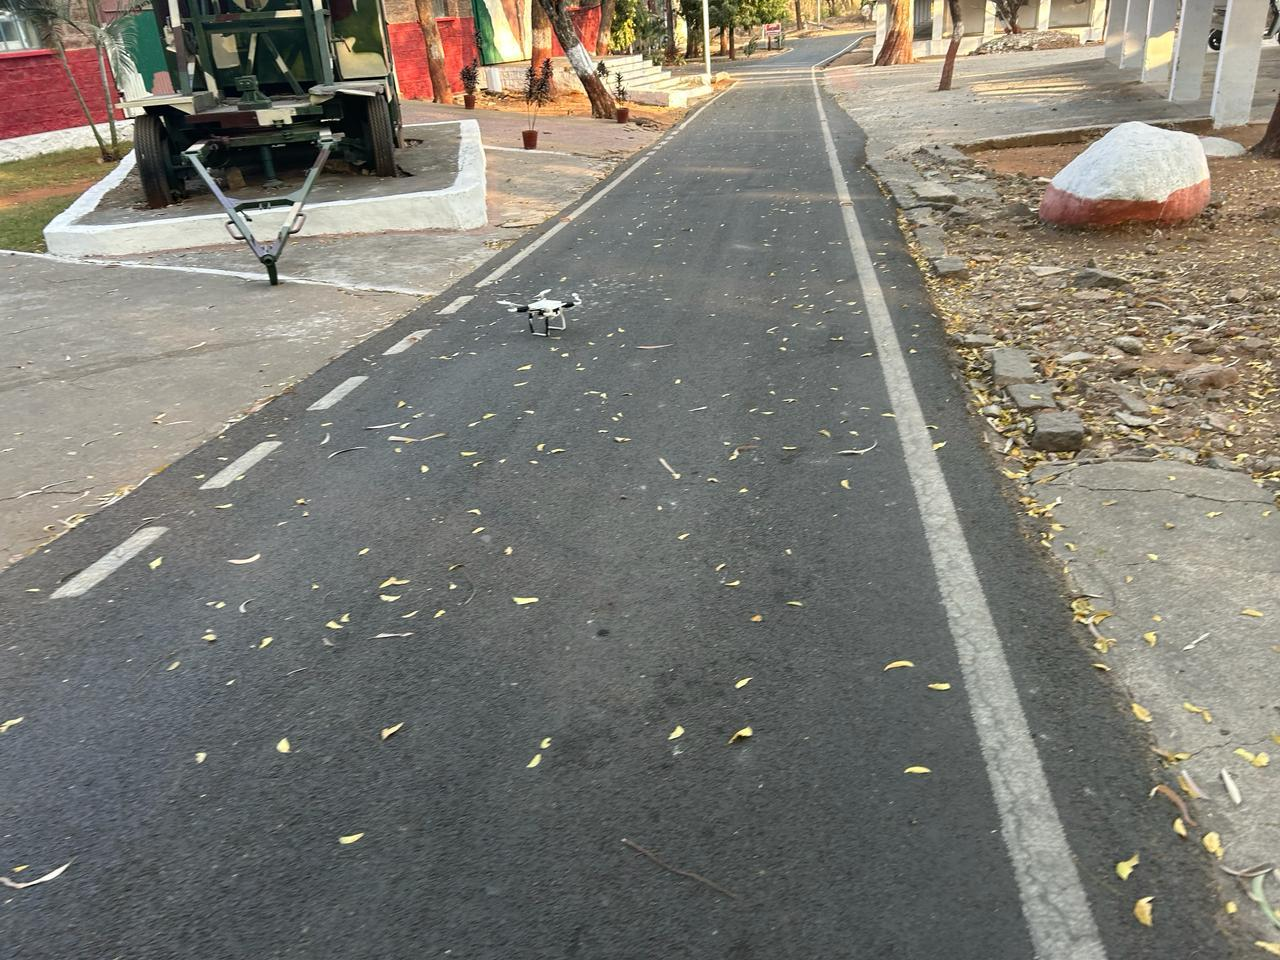drone: (455, 264, 620, 358)
